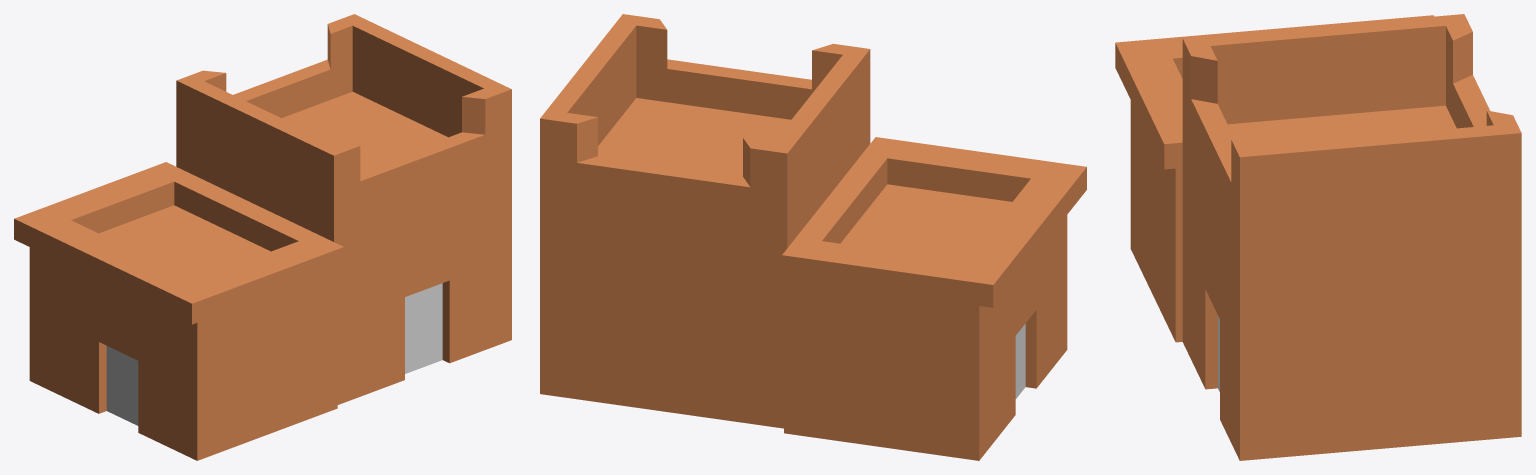
The model's file is casaTipo5.fbx.
3 views of the same model, side by side, from view 1: azimuth 30°, elevation 25°; view 2: azimuth 150°, elevation 25°; view 3: azimuth 270°, elevation 25° (orthographic). The views are drawn at different scales.
Visible parts, largest first — view 1: Cube.082; view 2: Cube.082; view 3: Cube.082.
Boxes of the visible parts, box(x1,y1,x2,y2) form: Cube.082: box(14, 14, 511, 460); Cube.082: box(540, 14, 1086, 460); Cube.082: box(1115, 14, 1521, 460).
Size of the model in its own units: 2282 by 1310 by 1589.
